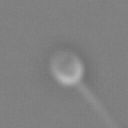normal: (75, 79, 117, 128)
